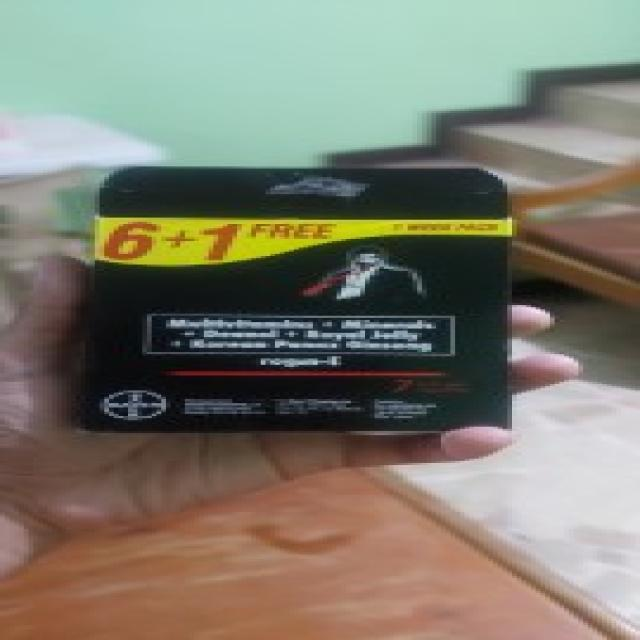Cacat: (70, 165, 514, 431)
